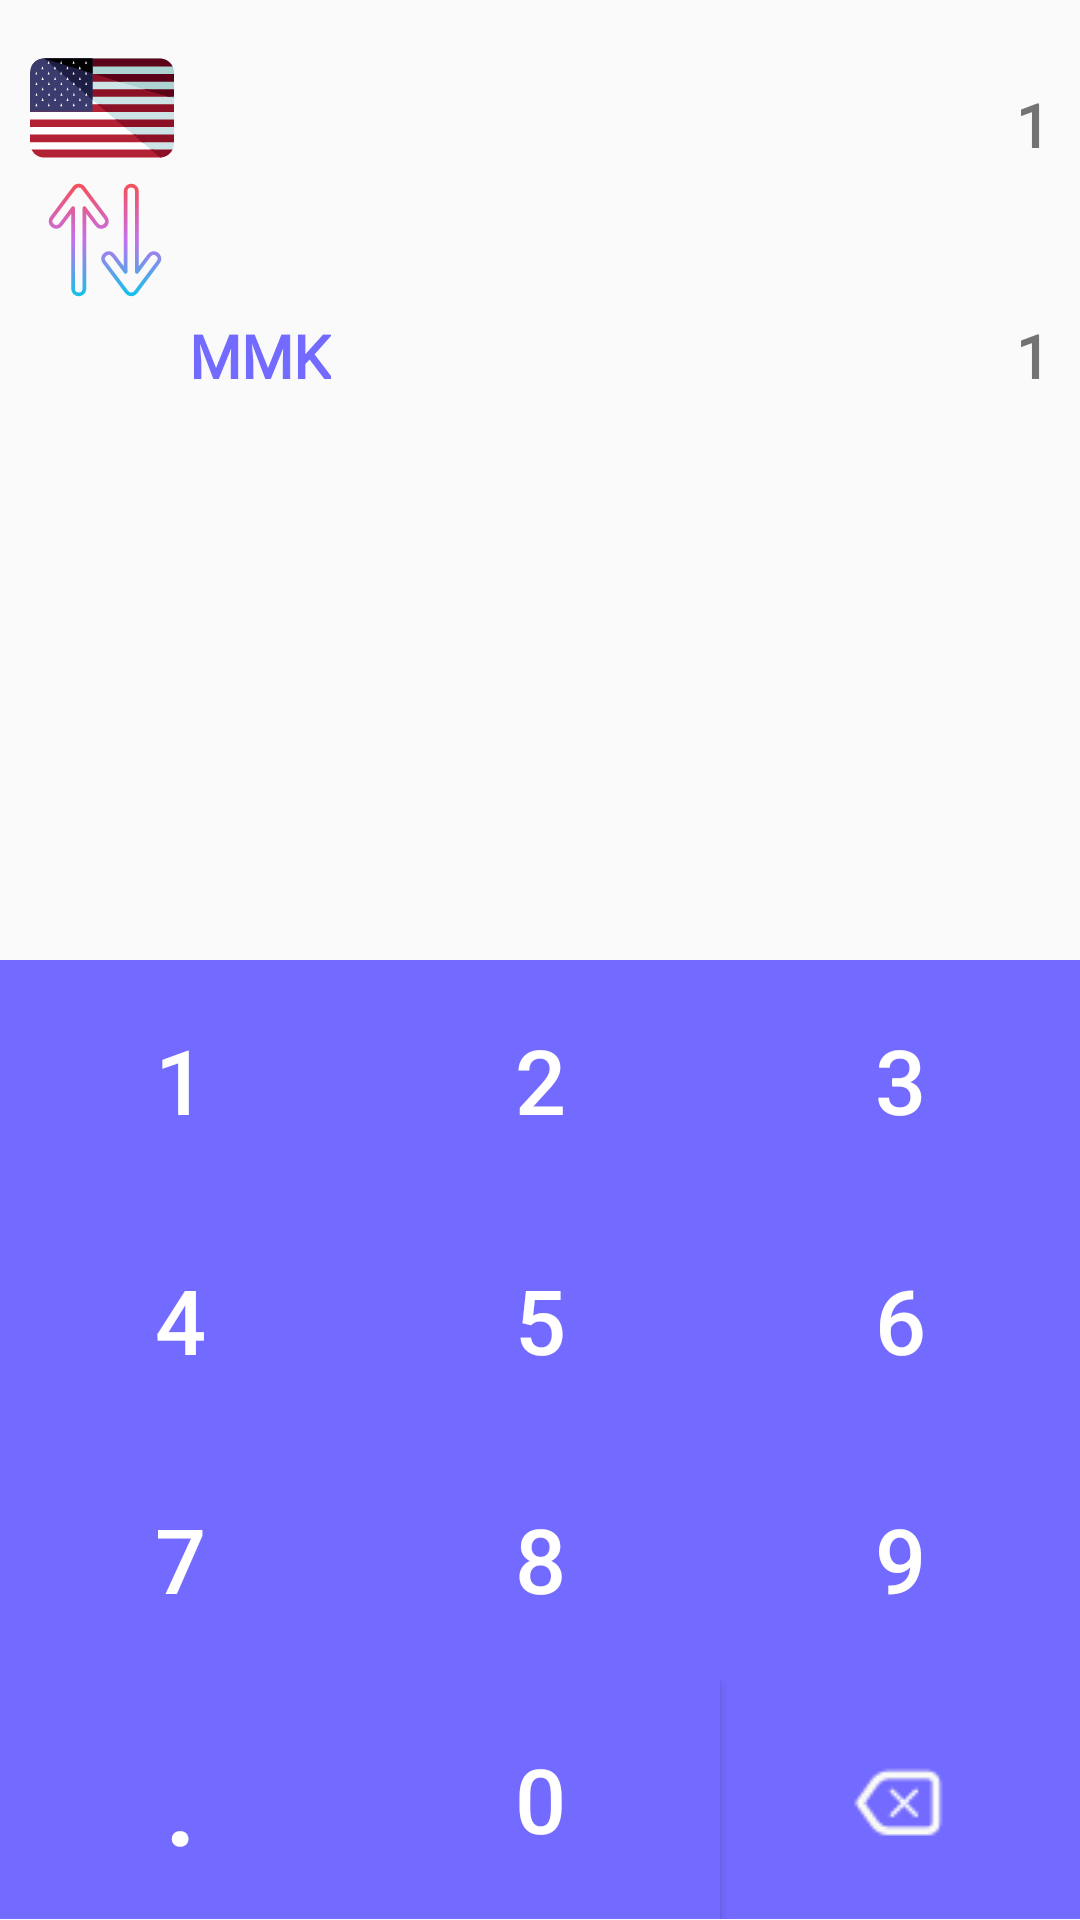

Icon bounding boxes for this 1080px x 1920px phone screenshot, format (x1, y1, x2, y2):
transfer: (48, 183, 162, 297)
usd: (30, 58, 174, 158)
